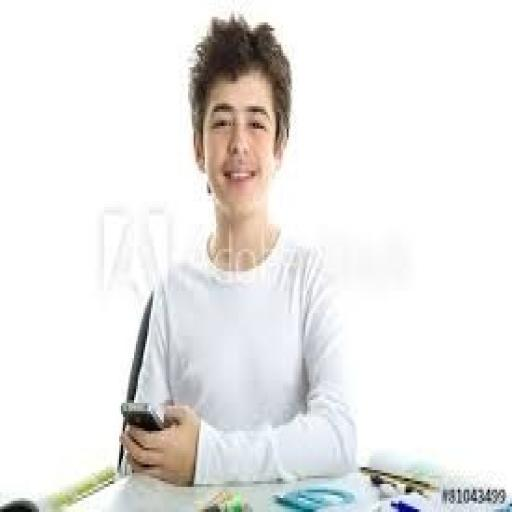texting: (116, 11, 360, 490)
